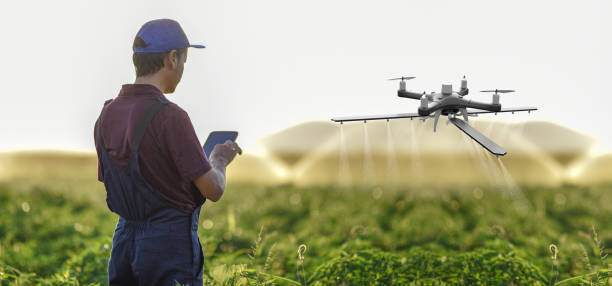Drone: (385, 69, 518, 120)
